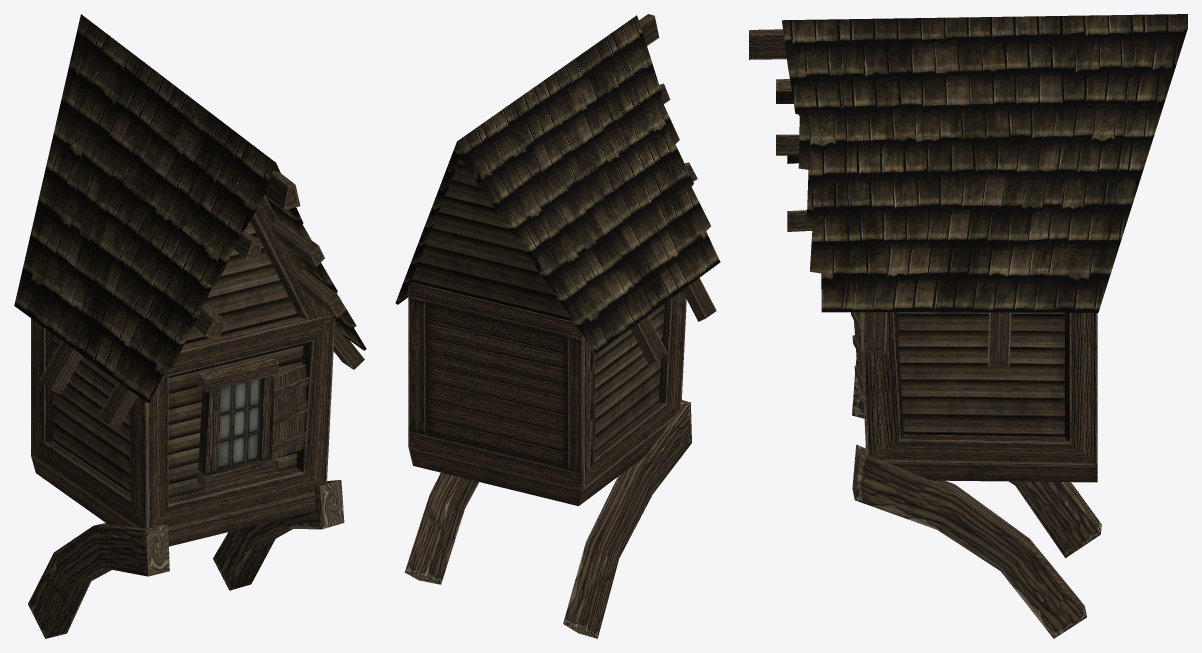
File: Window_c05.fbx
3 views of the same model, side by side, from view 1: azimuth 30°, elevation 25°; view 2: azimuth 150°, elevation 25°; view 3: azimuth 270°, elevation 25° (orthographic). The views are drawn at different scales.
Visible parts, largest first — view 1: Window_c05; view 2: Window_c05; view 3: Window_c05.
Boxes of the visible parts, x1,y1,x2,y2 form: Window_c05: (14, 14, 366, 638); Window_c05: (395, 14, 720, 638); Window_c05: (749, 14, 1187, 638).
Size of the model in its own units: 3.76 by 7.68 by 5.25.
